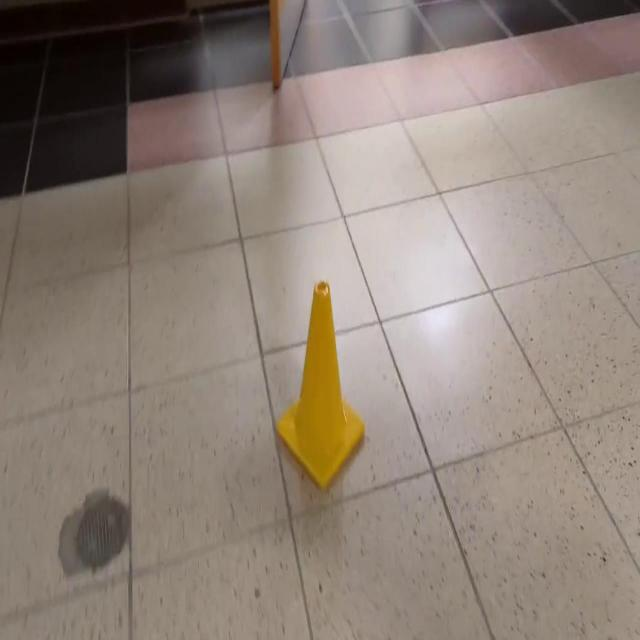frc_cone: (272, 276, 366, 494)
